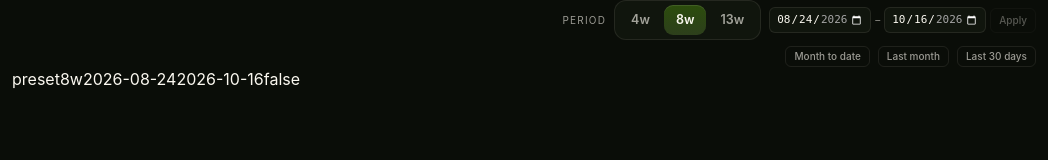
PeriodPicker › clears back to the 8-week preset
Click the button "Month to date" at point(828, 56), box [786, 46, 870, 67]
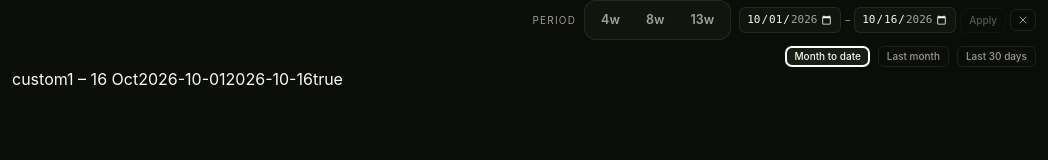
Now the text with test id "mode" reads "custom", box [12, 69, 67, 89]
Click the button named "Clear the custom range" at point(1023, 20), box [1010, 9, 1036, 31]
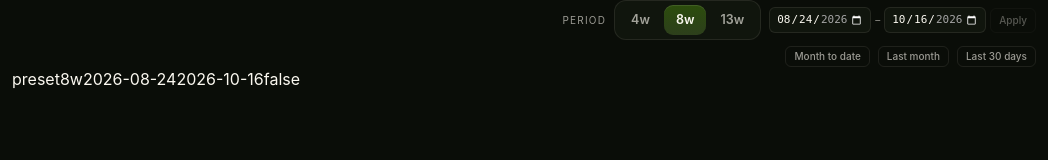
Now the text with test id "mode" reads "preset", box [12, 69, 60, 89]
Now the text with test id "label" reads "8w", box [60, 69, 83, 89]
